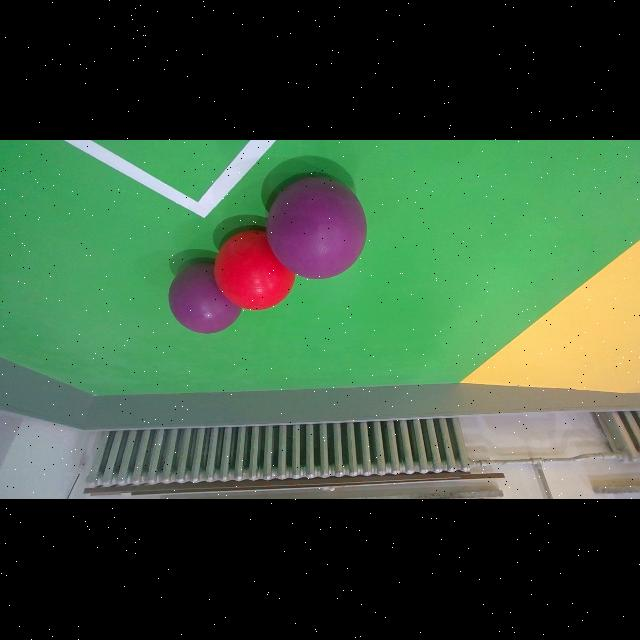P: (267, 177, 367, 279), (166, 252, 247, 336)
R: (214, 230, 296, 310)
